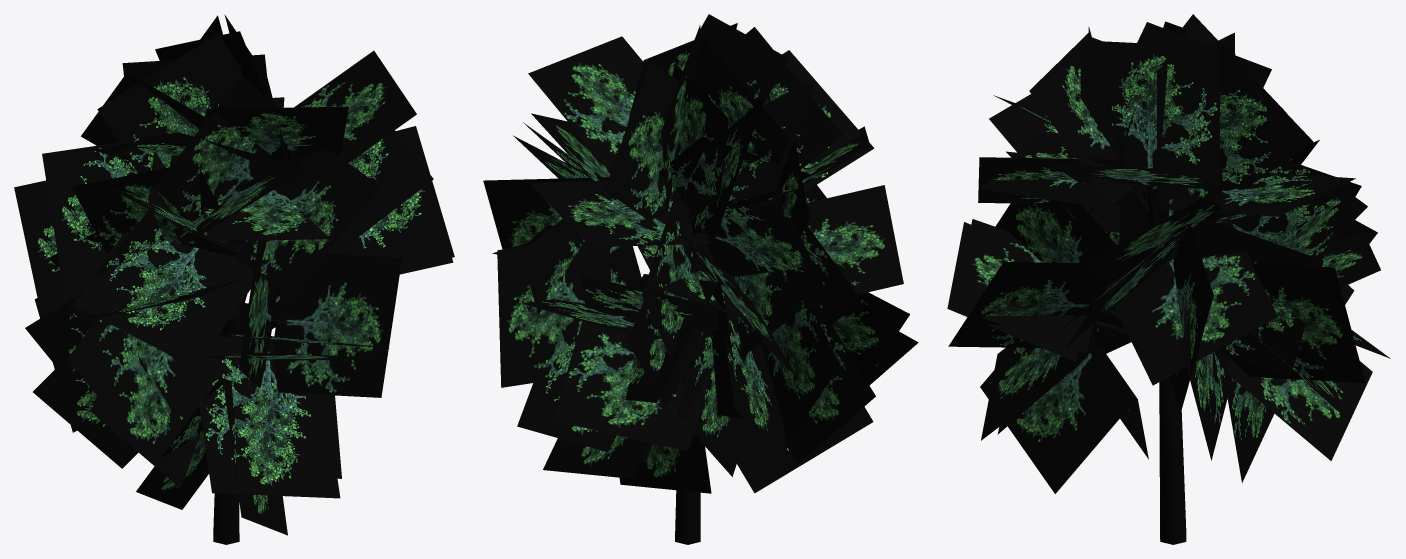
Rendered from tree79.glb.
The picture shows the model from 3 angles, left to right: view 1: azimuth 30°, elevation 25°; view 2: azimuth 150°, elevation 25°; view 3: azimuth 270°, elevation 25°; orthographic projection. The views are drawn at different scales.
Size of the model in its own units: 5.55 by 7.16 by 5.57.
2 materials, 1 textured.
